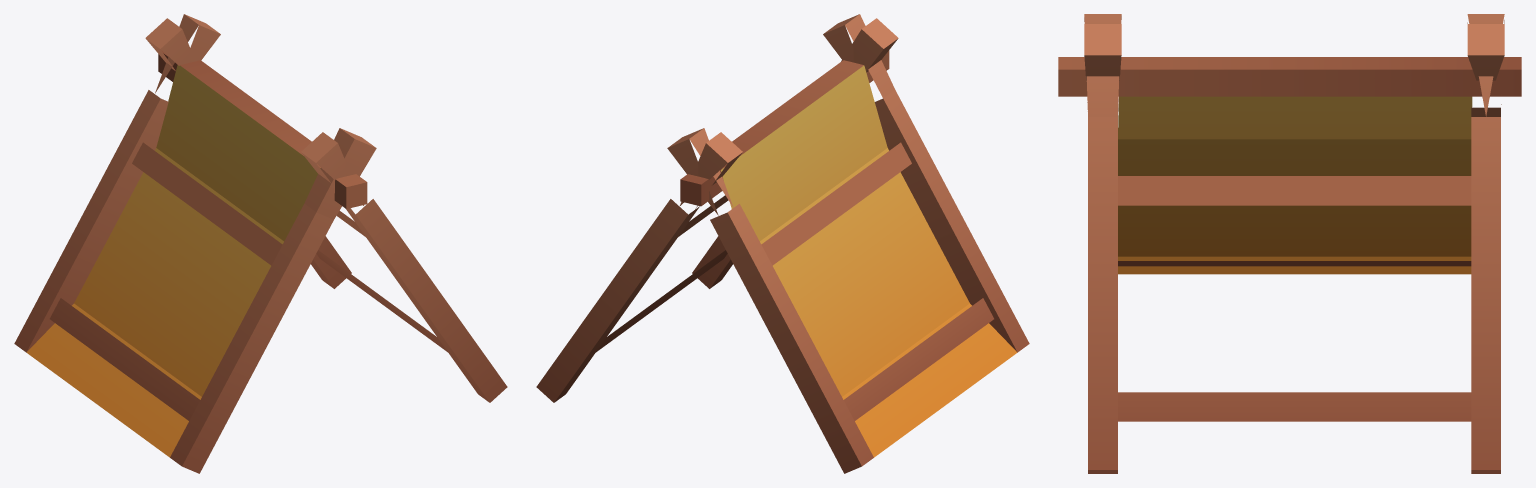
File: emergency-shelter.lod.glb
The picture shows the model from 3 angles, left to right: view 1: azimuth 30°, elevation 25°; view 2: azimuth 150°, elevation 25°; view 3: azimuth 270°, elevation 25°; orthographic projection. The views are drawn at different scales.
Visible parts, largest first — view 1: m; view 2: m; view 3: m.
Part boxes in pixels (x1,y1,x2,y2): m: (14, 14, 507, 473); m: (536, 14, 1029, 473); m: (1058, 14, 1521, 473).
Size of the model in its own units: 0.6 by 0.5257 by 0.6003.
